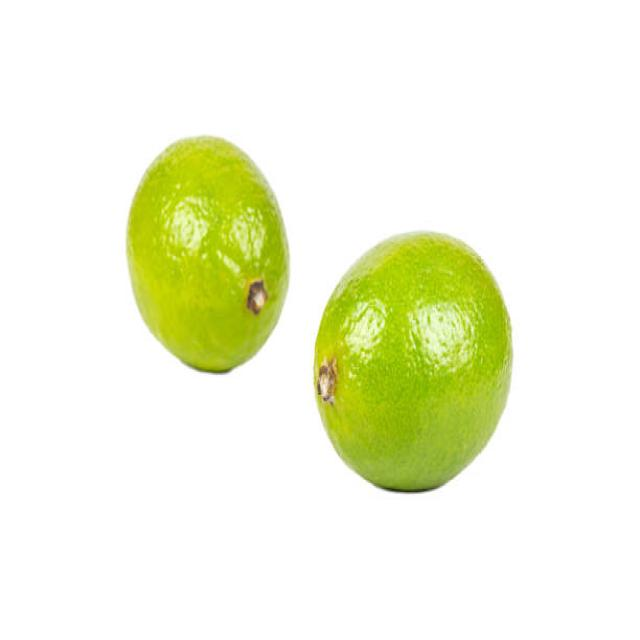Unripe: (313, 229, 513, 493), (126, 134, 290, 372)
